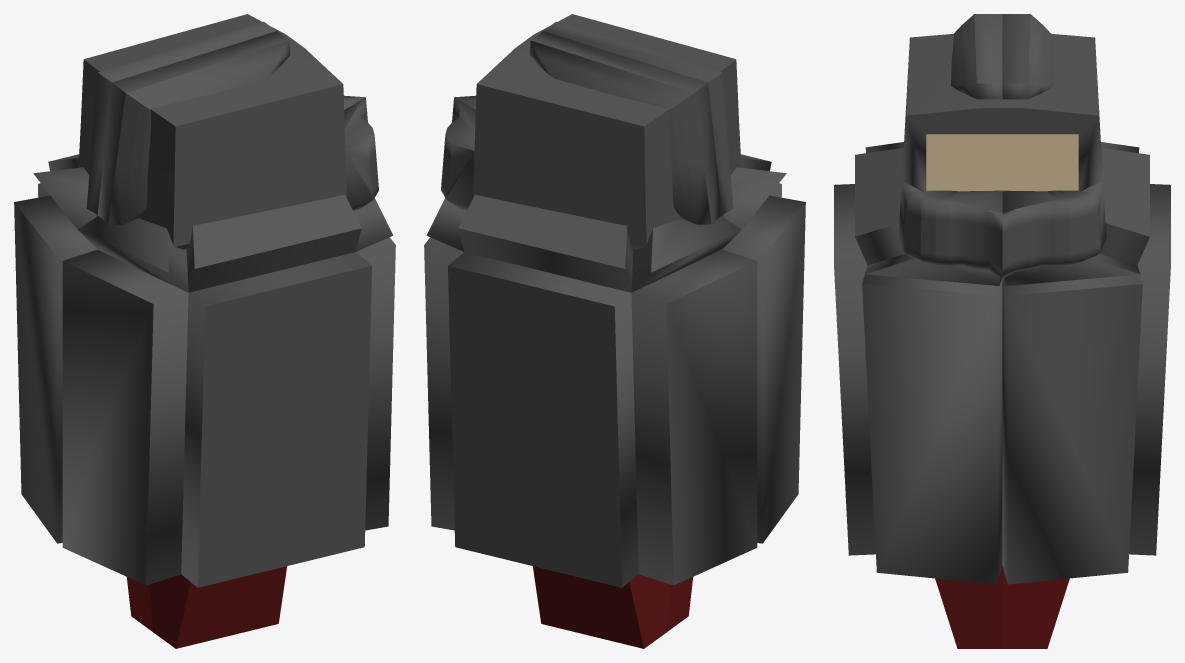
Rendered from shield.fbx.
The picture shows the model from 3 angles, left to right: view 1: azimuth 30°, elevation 25°; view 2: azimuth 150°, elevation 25°; view 3: azimuth 270°, elevation 25°; orthographic projection.
Parts seen in each view (by area): view 1: Cube; view 2: Cube; view 3: Cube.
Part boxes in pixels (x1,y1,x2,y2): Cube: (14,14,395,648); Cube: (424,14,805,648); Cube: (834,14,1170,648).
Size of the model in its own units: 475 by 836 by 444.
